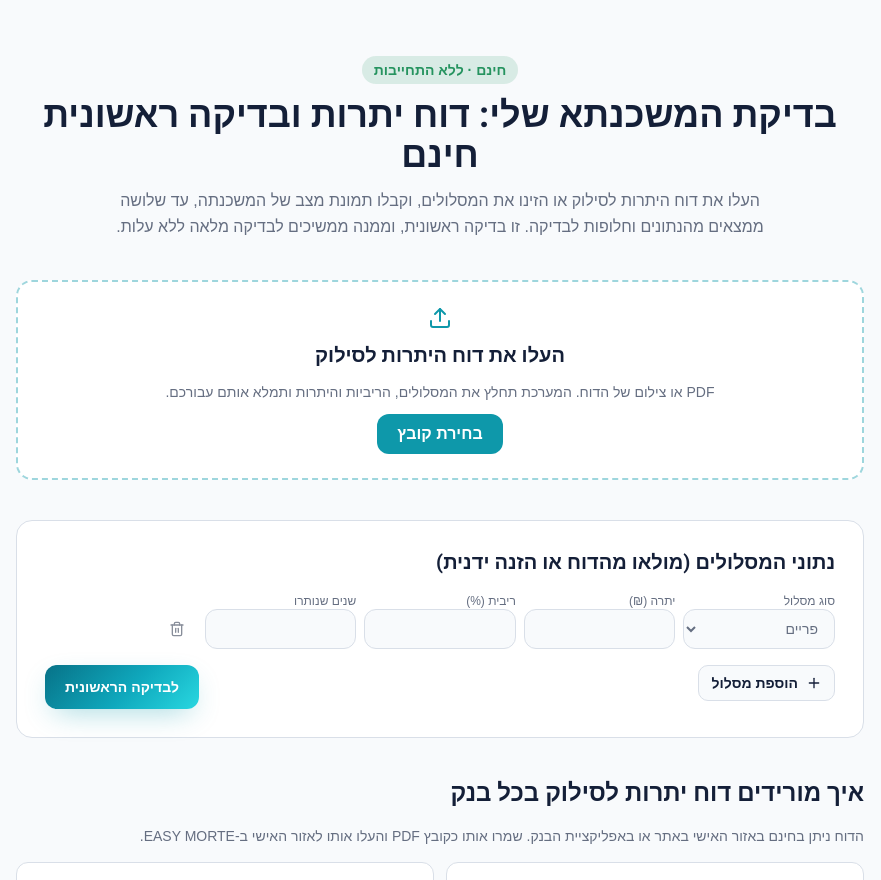
Test: BalanceCheckPage: personal summary first (#52 owner feedback) › summary, cards and findings come before the per-track detail; the goal travels with the free check
Later steps or results of the test are not shown.
Expected: the text "בחירת קובץ" is shown, x1=377 y1=414 x2=503 y2=454
Select "פריים" in the dropdown labelled "סוג מסלול" at (759, 629), box x1=683 y1=609 x2=835 y2=649
Type "600000" into the number field labelled "יתרה (₪)".
click(600, 629); type("600000")  # box x1=524 y1=609 x2=675 y2=649
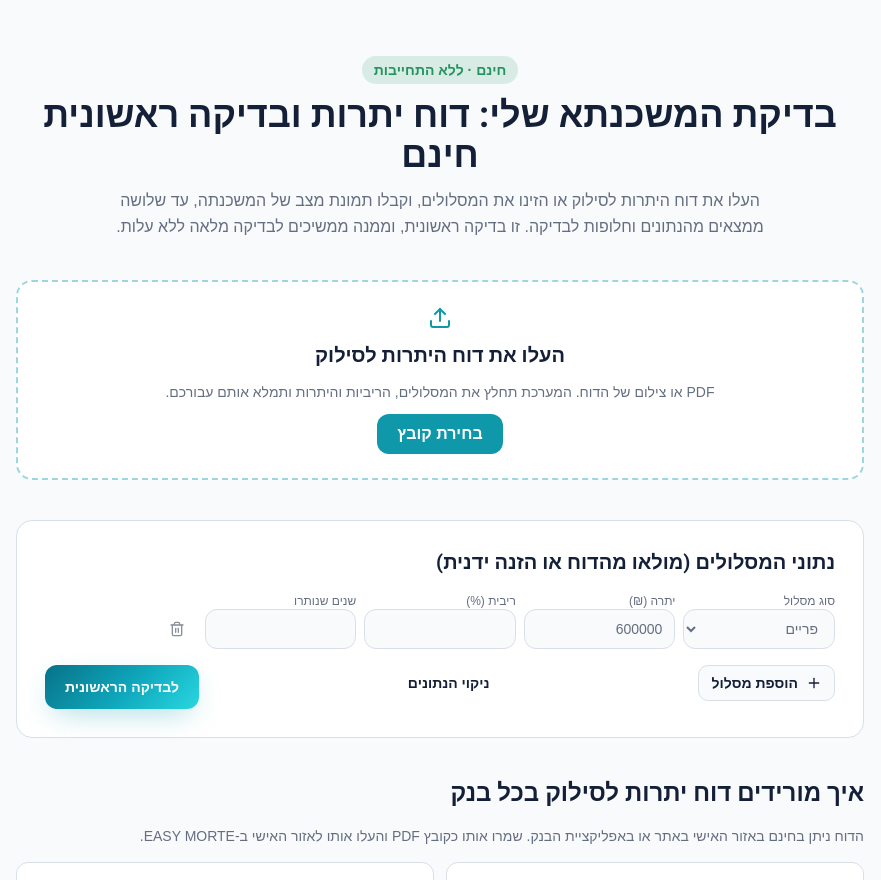
Type "5.8" into the number field labelled "ריבית (%)".
click(440, 629); type("5.8")  # box x1=364 y1=609 x2=516 y2=649
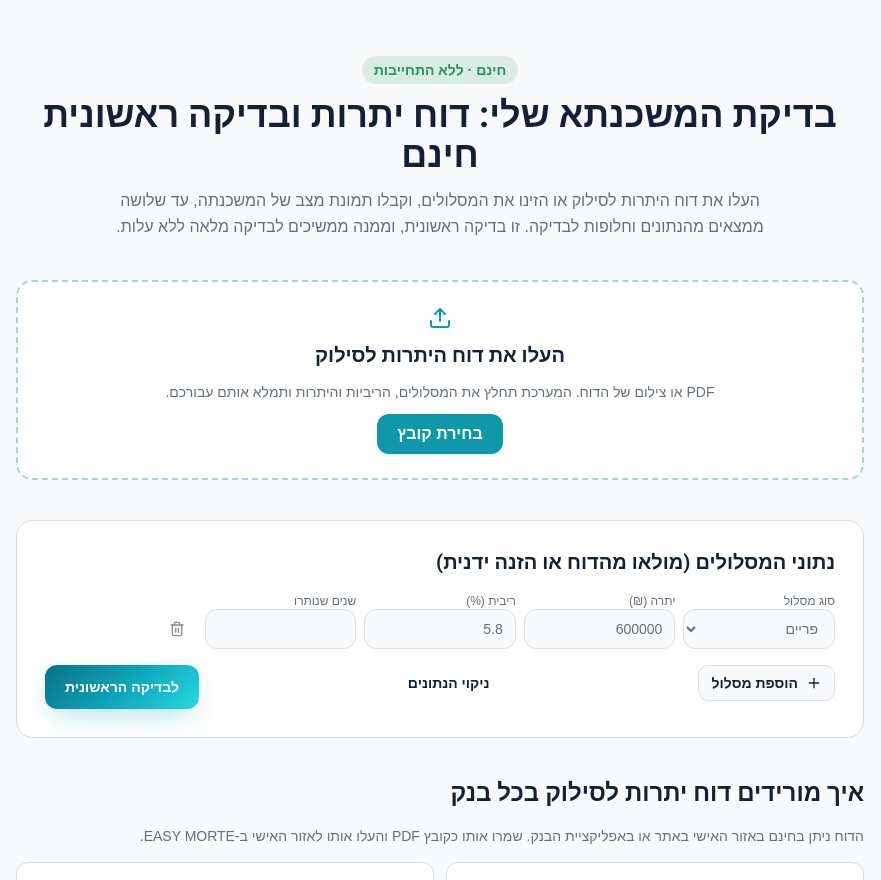
Type "22" into the number field labelled "שנים שנותרו".
click(280, 629); type("22")  # box x1=205 y1=609 x2=356 y2=649
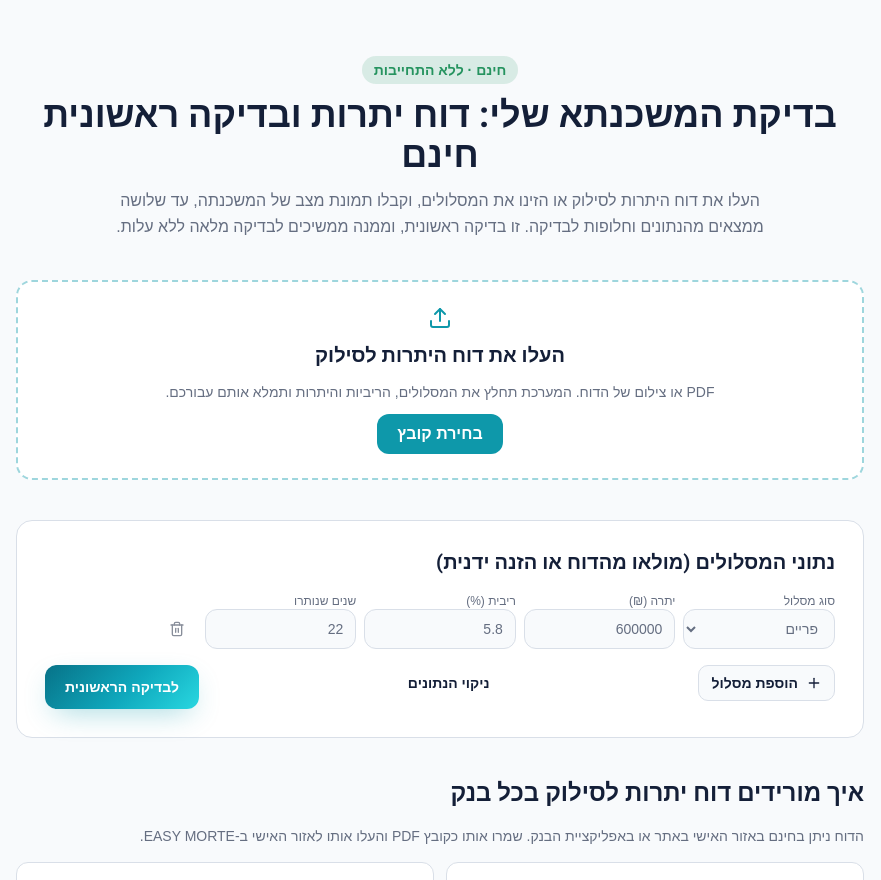
Click the button "לבדיקה הראשונית".
click(122, 687)  # box x1=45 y1=665 x2=199 y2=709
(page scrolled)
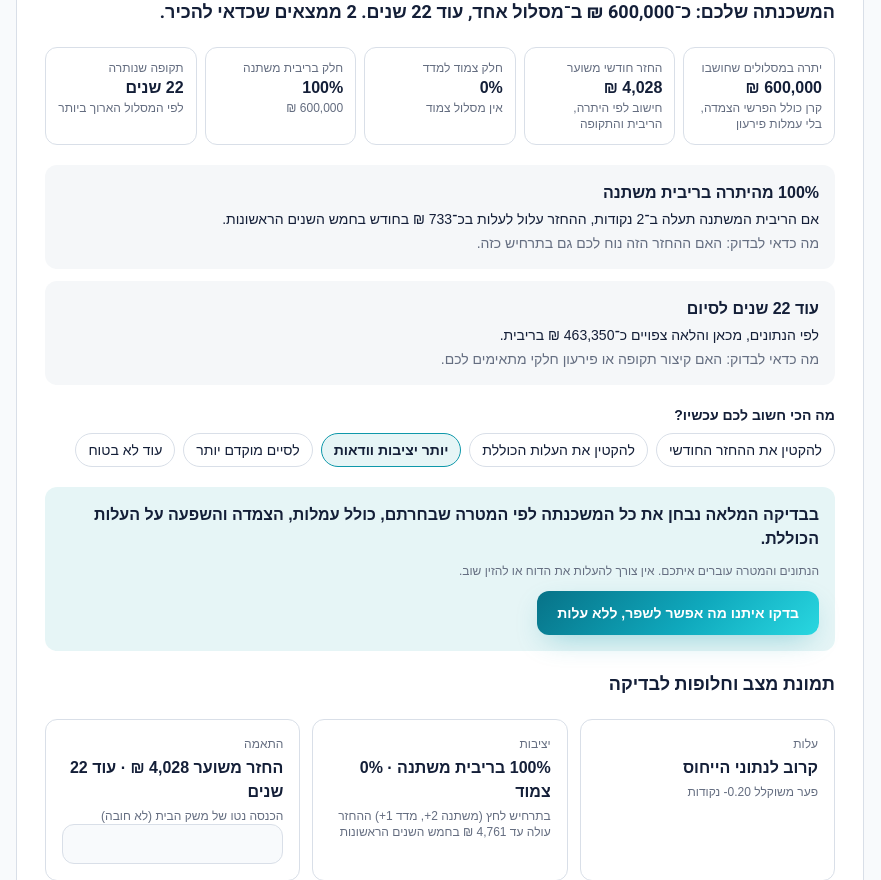
Now the text "חלק בריבית משתנה" is shown, box x1=243 y1=61 x2=343 y2=75
Now the list named "ממצאים עיקריים" shows "בריבית משתנה", box x1=603 y1=184 x2=819 y2=201
